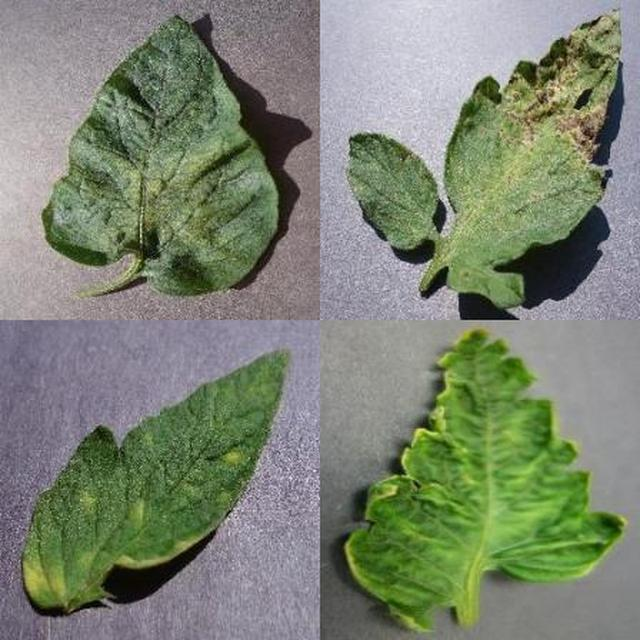Spider Mites Leaf: (221, 222, 640, 640)
